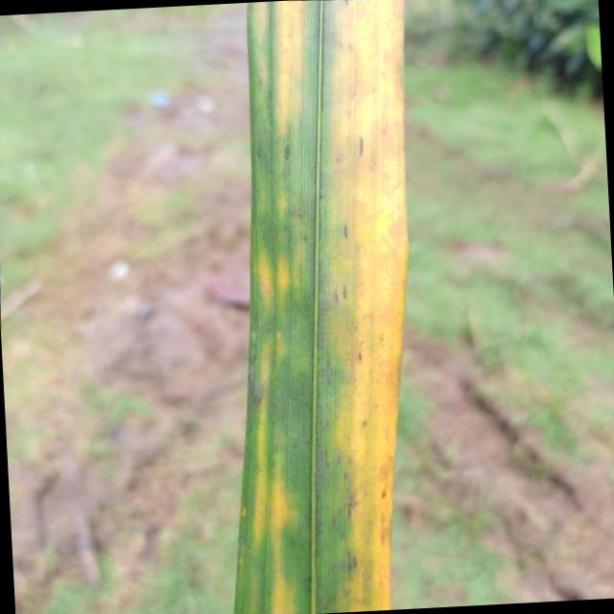Megnesium: (233, 0, 408, 605)
